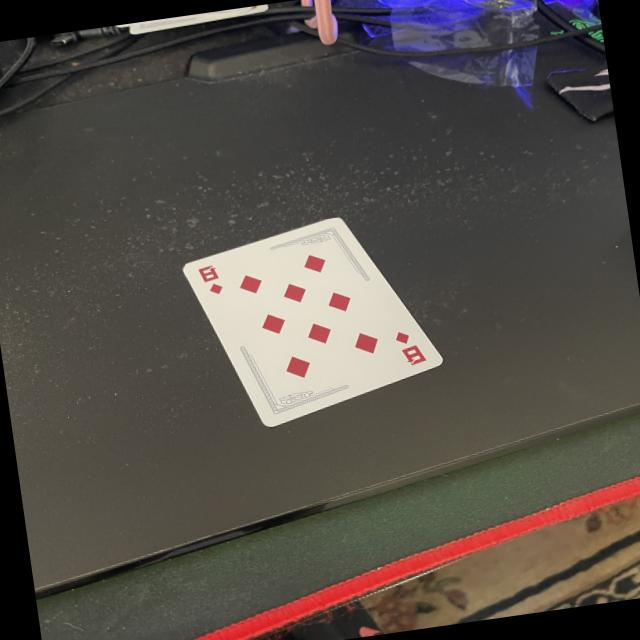8 of diamonds: (185, 218, 444, 428)
